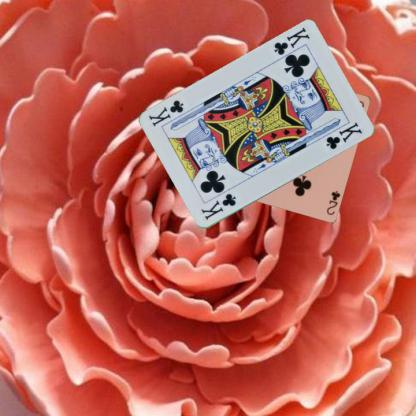2c: (324, 188, 342, 216)
Kc: (271, 25, 311, 57), (198, 191, 238, 222)
